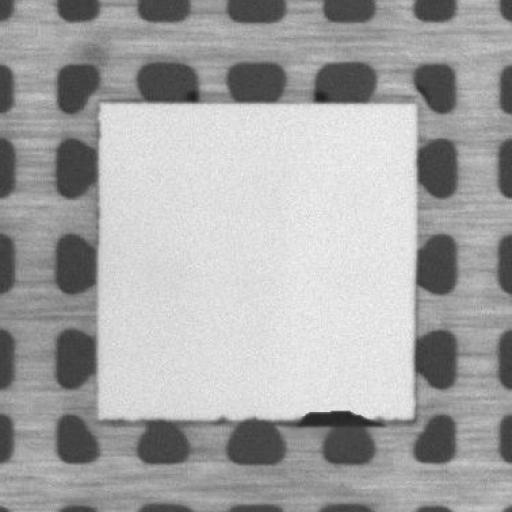DIE_BROKEN: (288, 406, 388, 430)
